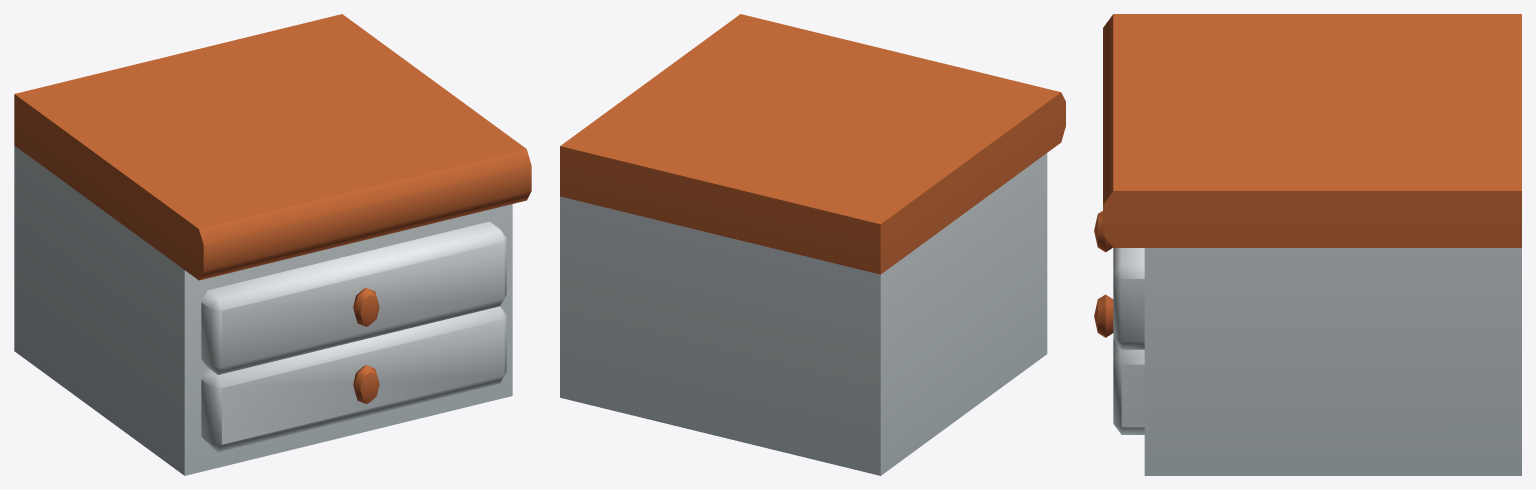
The model's file is counter.glb.
The picture shows the model from 3 angles, left to right: view 1: azimuth 30°, elevation 25°; view 2: azimuth 150°, elevation 25°; view 3: azimuth 270°, elevation 25°; orthographic projection. The views are drawn at different scales.
Visible parts, largest first — view 1: kitchencounter_straight_A; view 2: kitchencounter_straight_A; view 3: kitchencounter_straight_A.
Boxes of the visible parts, x1,y1,x2,y2 form: kitchencounter_straight_A: (14,14,531,475); kitchencounter_straight_A: (560,14,1065,475); kitchencounter_straight_A: (1094,14,1521,475).
Size of the model in its own units: 1 by 0.75 by 1.02.
Materials: 1 (1 with a texture image).
